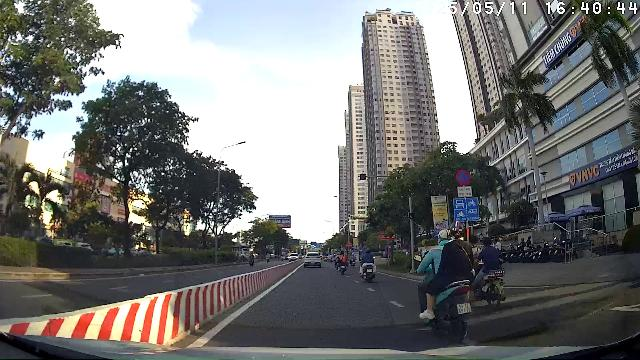130-cam-dung-va-do-xe: (456, 169, 470, 185)
